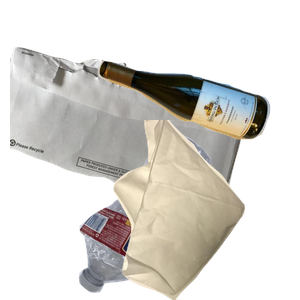glass: (95, 57, 300, 189)
paper: (10, 45, 250, 225)
plastic: (76, 131, 280, 300)
trash: (111, 120, 300, 300)
